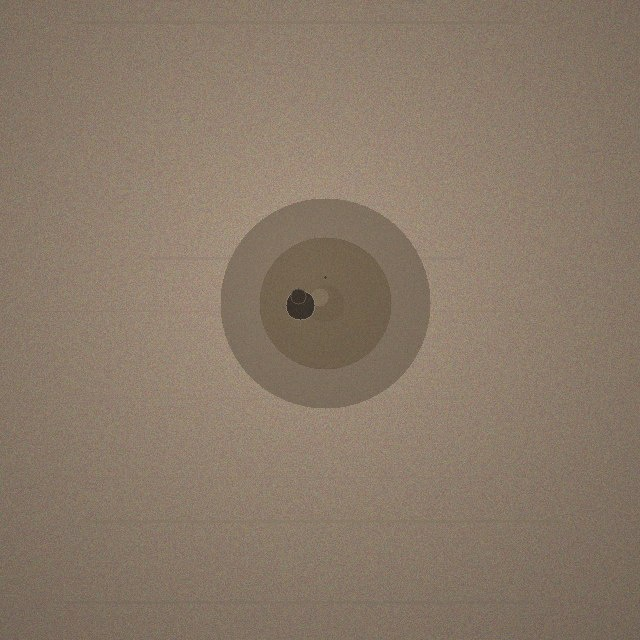shrinkage: (220, 198, 430, 408)
